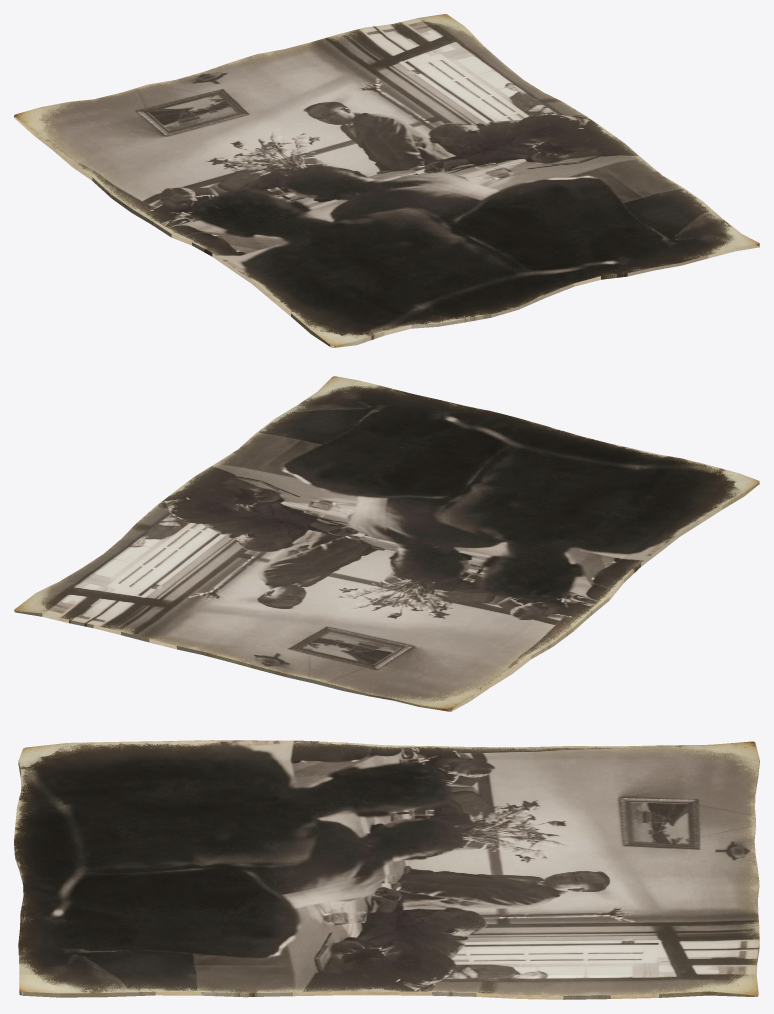
The model's file is 照片多人.fbx.
3 renders of one model, top to bottom at view 1: azimuth 30°, elevation 25°; view 2: azimuth 150°, elevation 25°; view 3: azimuth 270°, elevation 25°, orthographic. The views are drawn at different scales.
Visible parts, largest first — view 1: 平面; view 2: 平面; view 3: 平面.
Boxes of the visible parts, x1,y1,x2,y2 form: 平面: [14, 14, 759, 347]; 平面: [14, 376, 759, 711]; 平面: [14, 740, 759, 999].
Bounding box in the file's own units: 601 × 21.52 × 763.
1 material, 1 textured.
